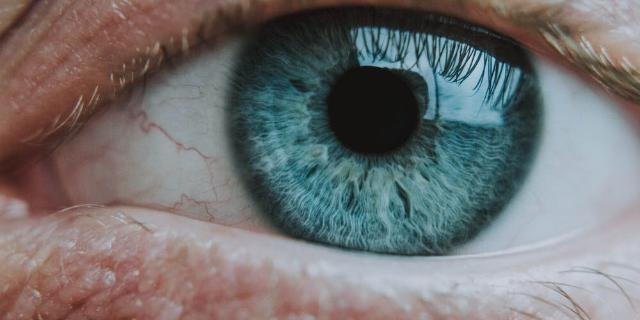eye: (228, 5, 546, 263)
